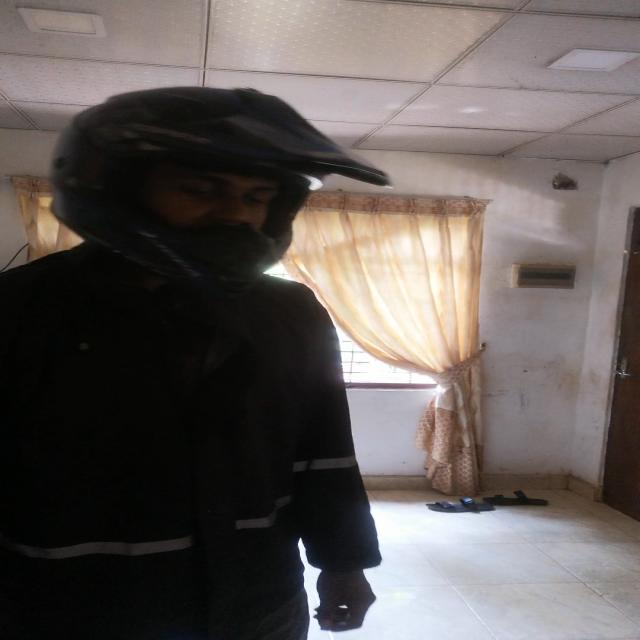Helmet_Wearer: (31, 76, 400, 298)
Jacket_Wearer: (3, 242, 404, 640)
Person: (0, 78, 391, 640)
